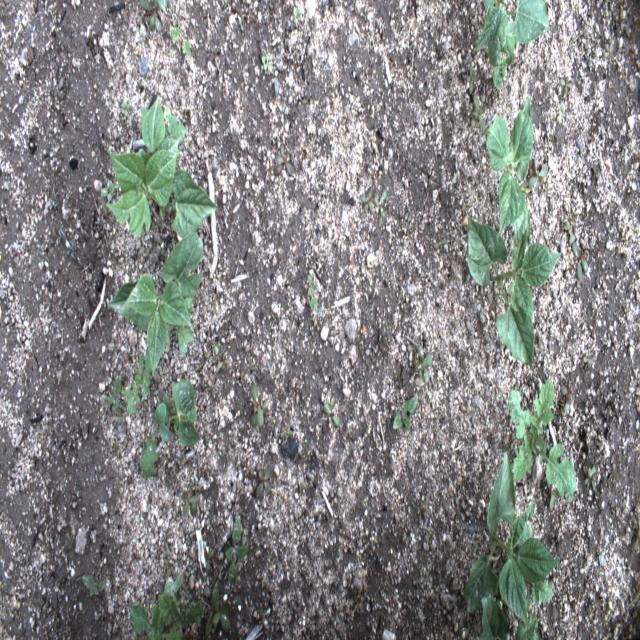crop: (465, 451, 560, 636), (106, 96, 220, 240), (466, 203, 561, 368), (106, 231, 204, 375), (472, 0, 549, 88), (486, 103, 534, 240), (155, 377, 200, 450), (476, 594, 512, 637)
weed: (507, 376, 579, 498), (131, 575, 200, 639), (225, 507, 249, 586), (391, 392, 419, 431), (212, 587, 232, 634), (250, 380, 268, 429), (106, 374, 126, 418), (140, 435, 158, 480), (414, 344, 434, 384), (527, 156, 550, 188), (140, 0, 162, 32), (323, 395, 343, 429), (169, 22, 190, 54), (256, 464, 274, 498), (136, 355, 152, 391), (124, 381, 140, 417), (574, 241, 588, 280), (562, 212, 578, 246), (82, 575, 105, 598), (464, 64, 480, 96), (473, 94, 486, 132), (374, 189, 388, 222), (182, 490, 197, 519), (308, 272, 318, 315), (361, 190, 374, 218), (101, 179, 115, 204), (422, 488, 432, 523), (479, 86, 494, 105), (602, 42, 614, 61), (585, 466, 595, 487), (260, 53, 273, 69), (120, 101, 132, 117), (433, 238, 446, 252), (560, 76, 571, 92), (293, 5, 299, 23)
